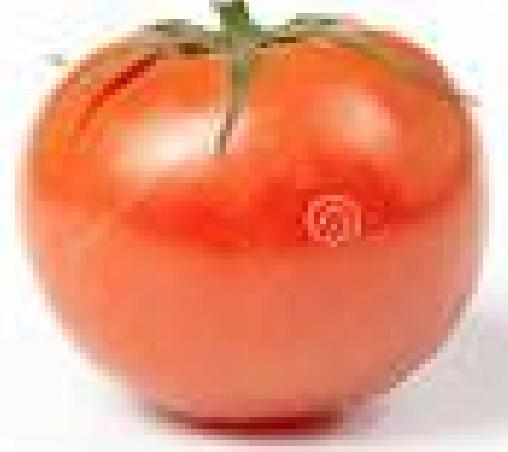tomato: (31, 18, 482, 424)
